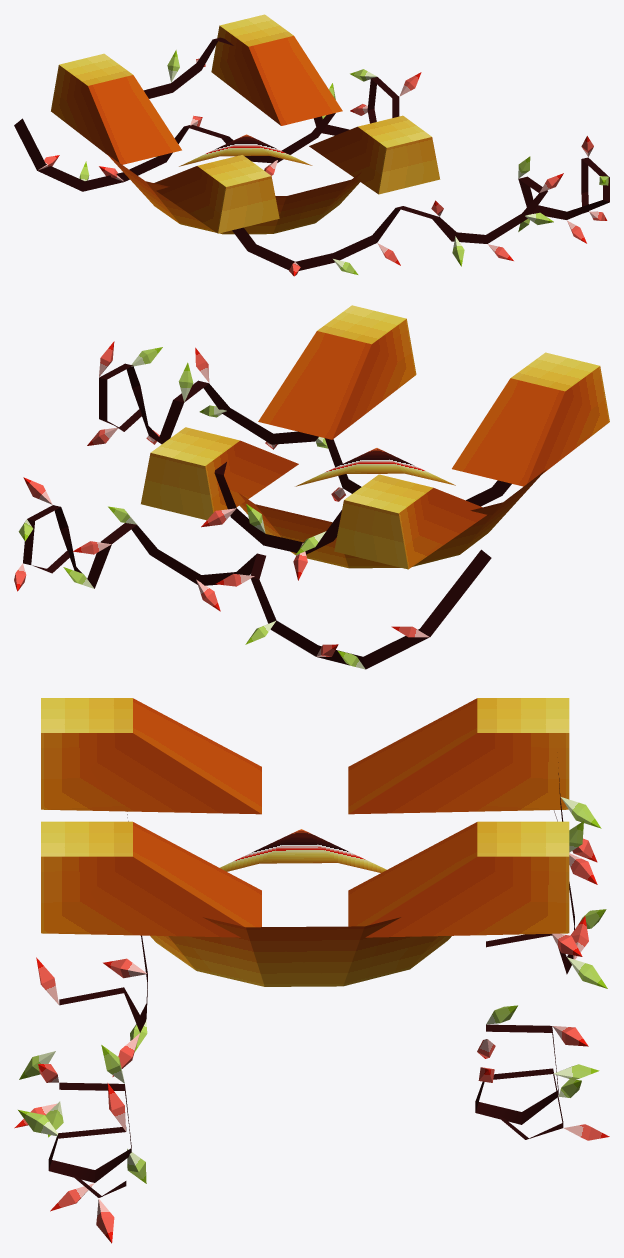
Rendered from Jingles_Power2.glb.
3 renders of one model, top to bottom at view 1: azimuth 30°, elevation 25°; view 2: azimuth 150°, elevation 25°; view 3: azimuth 270°, elevation 25°, orthographic. The views are drawn at different scales.
Visible parts, largest first — view 1: Jingles_Power2; view 2: Jingles_Power2; view 3: Jingles_Power2.
Boxes of the visible parts, box(x1,y1,x2,y2) form: Jingles_Power2: box(14, 14, 609, 276); Jingles_Power2: box(14, 305, 609, 669); Jingles_Power2: box(14, 698, 609, 1243).
Size of the model in its own units: 6.16 by 1.89 by 4.33.
1 material, 1 textured.
